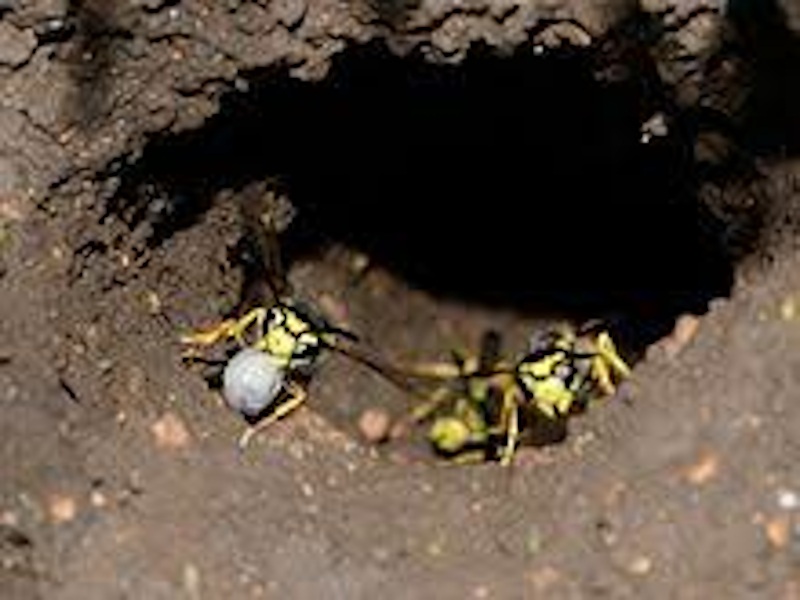chax: (177, 292, 350, 441), (516, 292, 640, 430)
